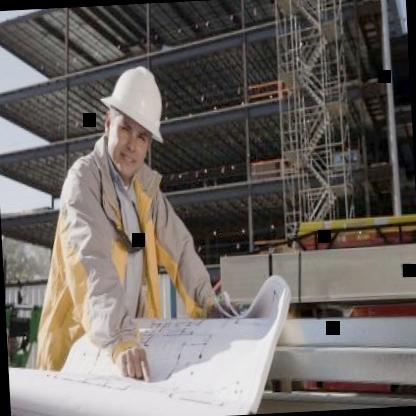helmet: (96, 60, 172, 178)
